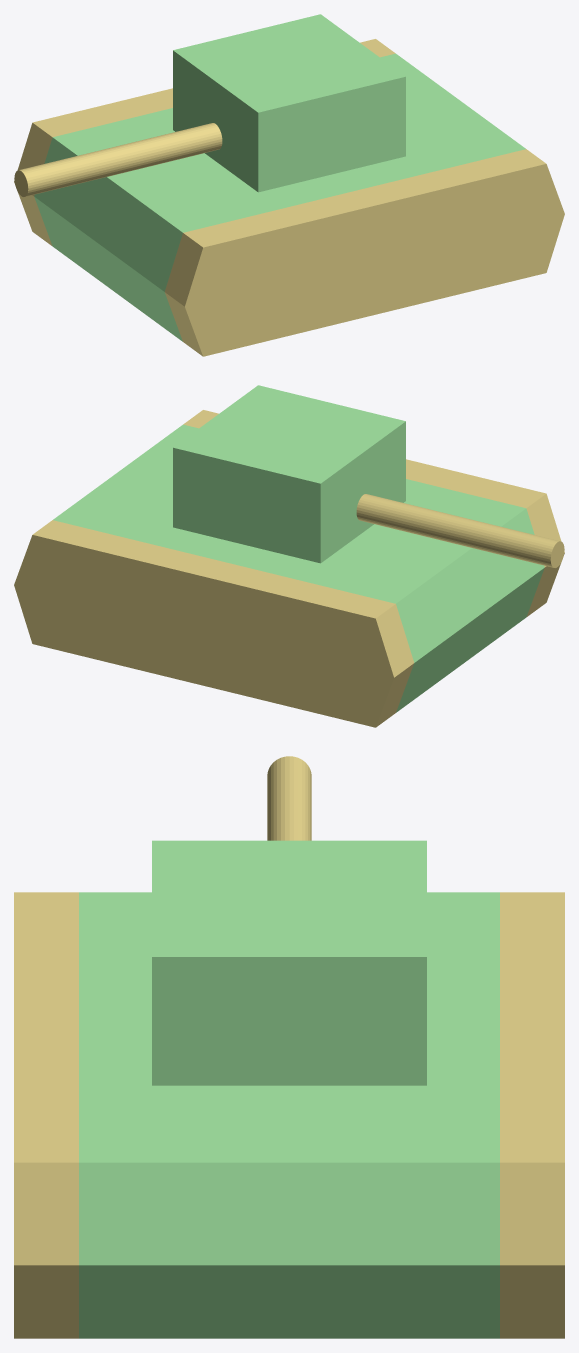
Rendered from 敵戦車.fbx.
The picture shows the model from 3 angles, top to bottom: view 1: azimuth 30°, elevation 25°; view 2: azimuth 150°, elevation 25°; view 3: azimuth 270°, elevation 25°; orthographic projection. The views are drawn at different scales.
Visible parts, largest first — view 1: 立方体.001, 立方体, 円柱; view 2: 立方体.001, 立方体, 円柱; view 3: 立方体.001, 立方体, 円柱.
Boxes of the visible parts, bbox=[...] form: 立方体.001: bbox=[14, 39, 564, 356]; 立方体: bbox=[173, 14, 405, 192]; 円柱: bbox=[14, 123, 222, 196]; 立方体.001: bbox=[14, 410, 564, 727]; 立方体: bbox=[173, 385, 405, 563]; 円柱: bbox=[356, 494, 564, 567]; 立方体.001: bbox=[14, 892, 564, 1338]; 立方体: bbox=[152, 840, 426, 1085]; 円柱: bbox=[267, 756, 311, 840].
Bounding box in the file's own units: 620 × 244 × 400.
